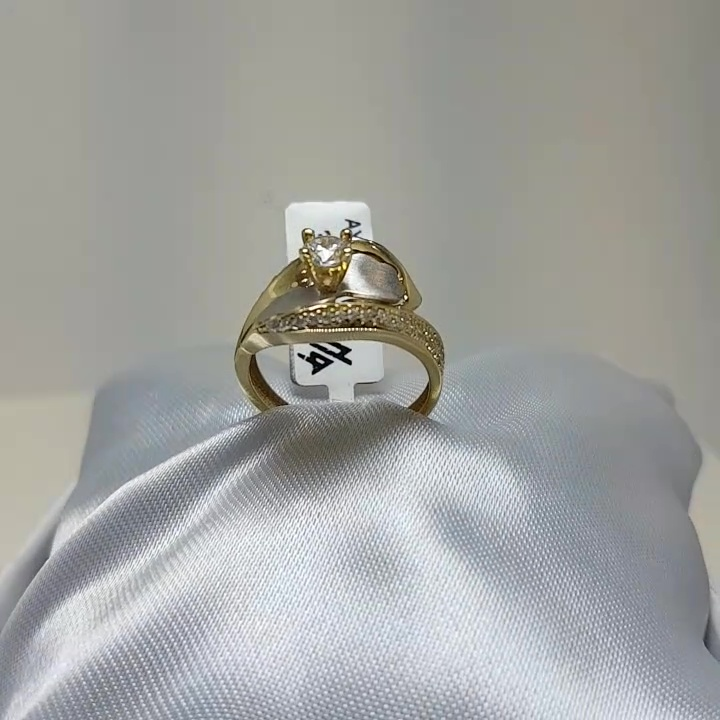Ring 6: (183, 207, 458, 473)
